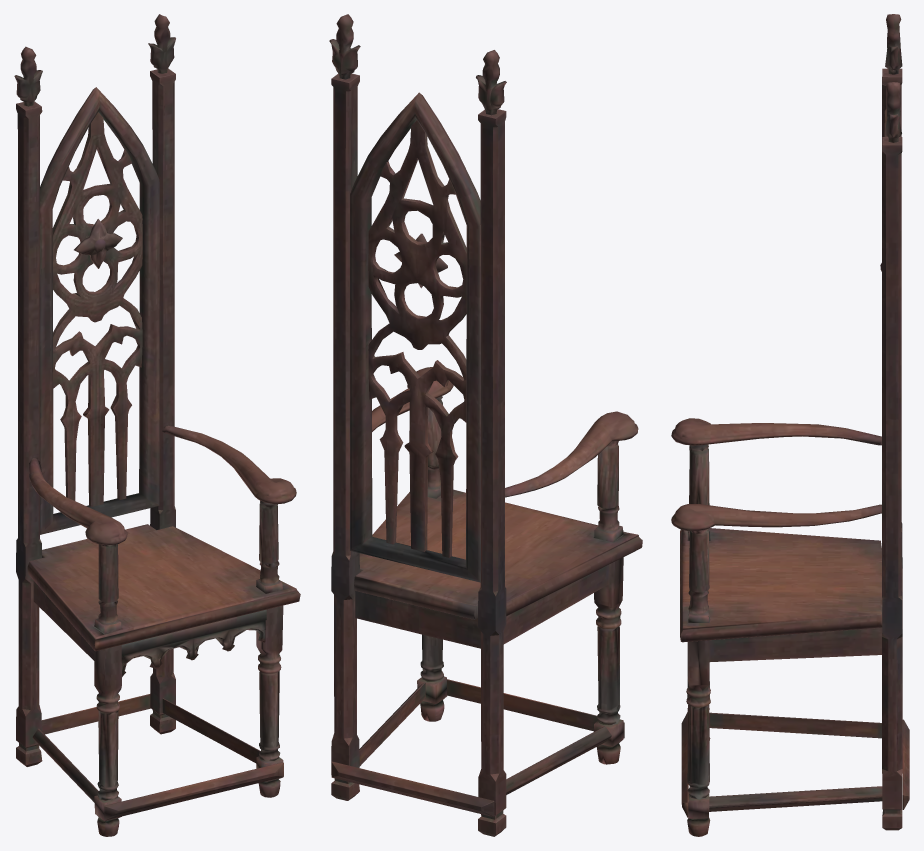
File: WoodenChair_01.glb
3 views of the same model, side by side, from view 1: azimuth 30°, elevation 25°; view 2: azimuth 150°, elevation 25°; view 3: azimuth 270°, elevation 25° (orthographic). The views are drawn at different scales.
Visible parts, largest first — view 1: WoodenChair_01; view 2: WoodenChair_01; view 3: WoodenChair_01.
Part boxes in pixels (x1,y1,x2,y2): WoodenChair_01: (14,14,300,836); WoodenChair_01: (329,14,642,836); WoodenChair_01: (671,14,909,836).
Size of the model in its own units: 0.6872 by 2.27 by 0.6584.
1 material, 1 textured.
